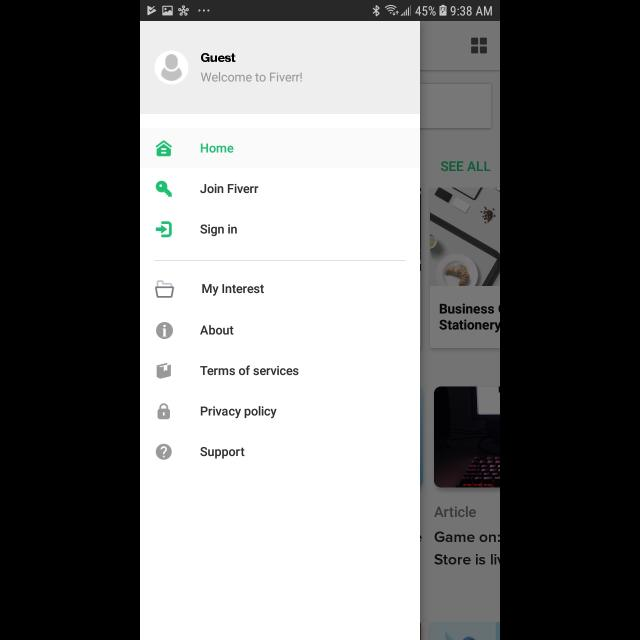icon: (155, 51, 189, 85), (155, 280, 175, 298), (156, 321, 174, 339), (156, 140, 172, 158), (156, 220, 172, 238), (156, 444, 172, 461), (157, 404, 170, 421)
image: (156, 180, 172, 198), (156, 362, 172, 380)
panel: (140, 22, 420, 640)
text: (200, 364, 300, 376), (201, 72, 303, 82), (200, 406, 278, 418), (202, 284, 264, 296), (200, 184, 260, 194), (200, 447, 244, 459), (200, 224, 238, 236), (200, 324, 234, 336), (202, 53, 236, 63), (202, 143, 234, 153)
uppertaskbar: (140, 1, 500, 22)
